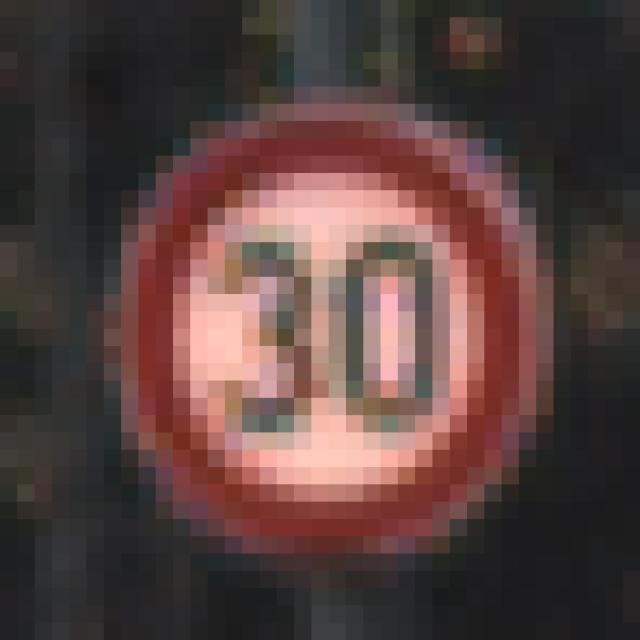Speed Limit -30-: (95, 78, 545, 545)
